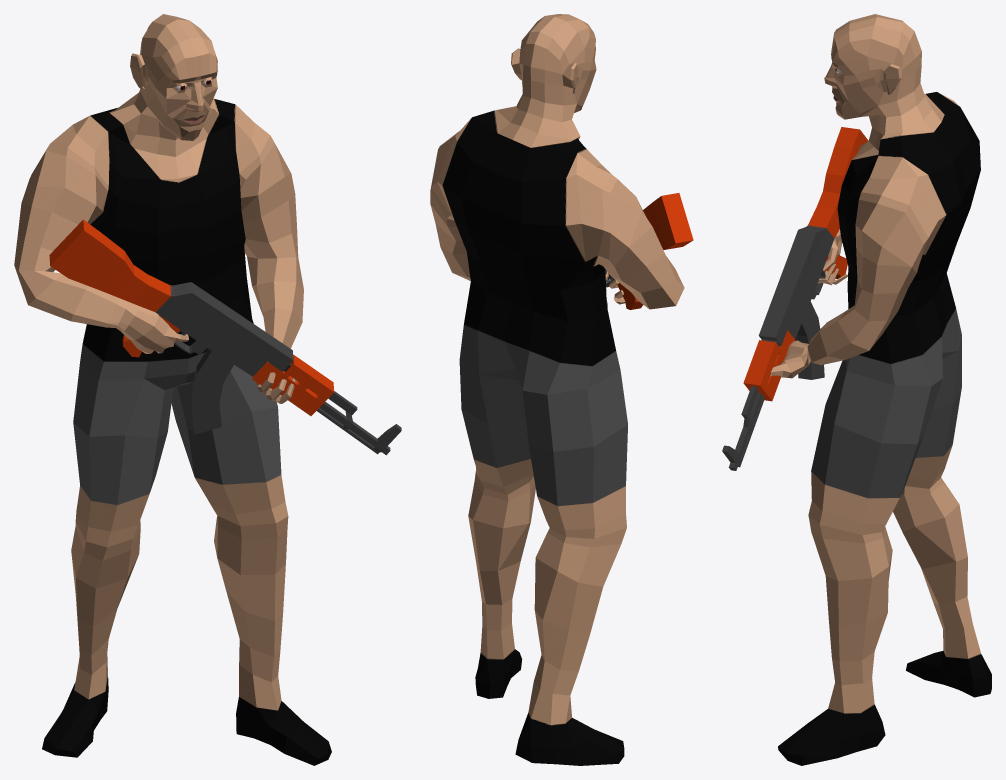
File: PlayerIdle(41).obj
The picture shows the model from 3 angles, left to right: view 1: azimuth 30°, elevation 25°; view 2: azimuth 150°, elevation 25°; view 3: azimuth 270°, elevation 25°; orthographic projection. The views are drawn at different scales.
Parts seen in each view (by area): view 1: Plane002, Object001; view 2: Plane002, Object001; view 3: Plane002, Object001.
Part boxes in pixels (bbox=[...]): Plane002: bbox=[14, 14, 331, 765]; Object001: bbox=[49, 219, 401, 455]; Plane002: bbox=[430, 14, 684, 765]; Object001: bbox=[605, 193, 693, 309]; Plane002: bbox=[770, 14, 991, 765]; Object001: bbox=[722, 127, 868, 470].
Size of the model in its own units: 746 by 1806 by 635.
